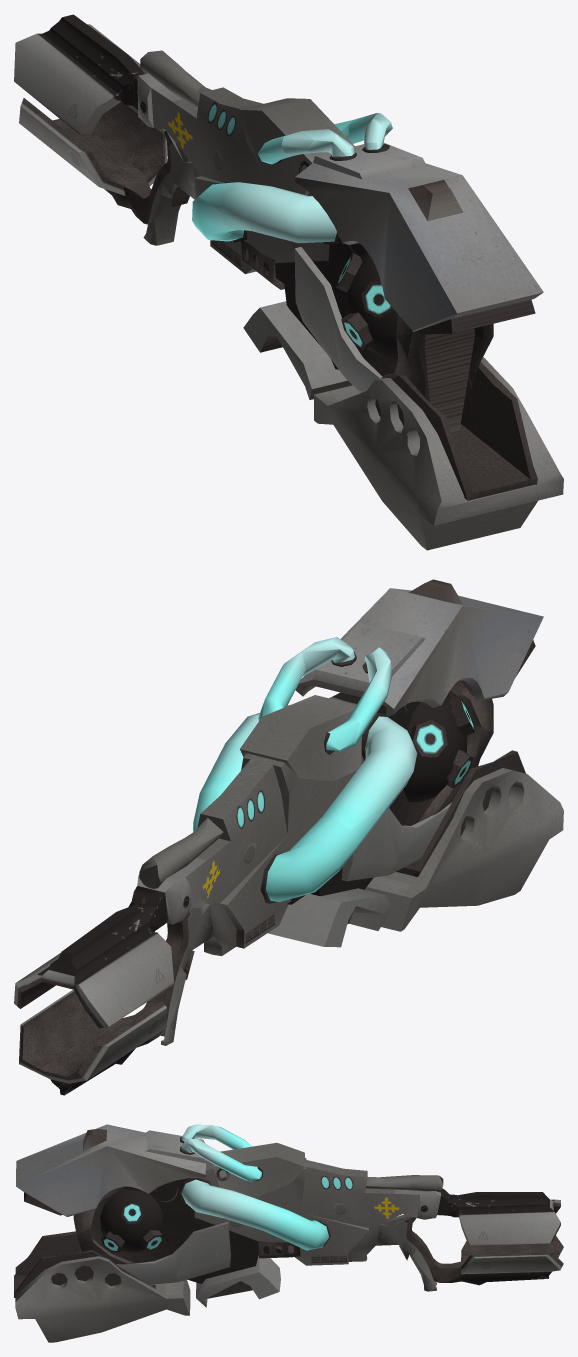
The model's file is BlackHoleGun.fbx.
The picture shows the model from 3 angles, top to bottom: view 1: azimuth 30°, elevation 25°; view 2: azimuth 150°, elevation 25°; view 3: azimuth 270°, elevation 25°; orthographic projection. The views are drawn at different scales.
Parts seen in each view (by area): view 1: BlackHoleGun; view 2: BlackHoleGun; view 3: BlackHoleGun.
Boxes of the visible parts, x1,y1,x2,y2 form: BlackHoleGun: (14,14,563,550); BlackHoleGun: (14,579,563,1095); BlackHoleGun: (14,1124,563,1342).
Bounding box in the file's own units: 46.29 × 83.53 × 211.
